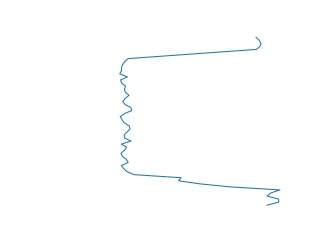distributaryChannelFill: (115, 37, 285, 208)
